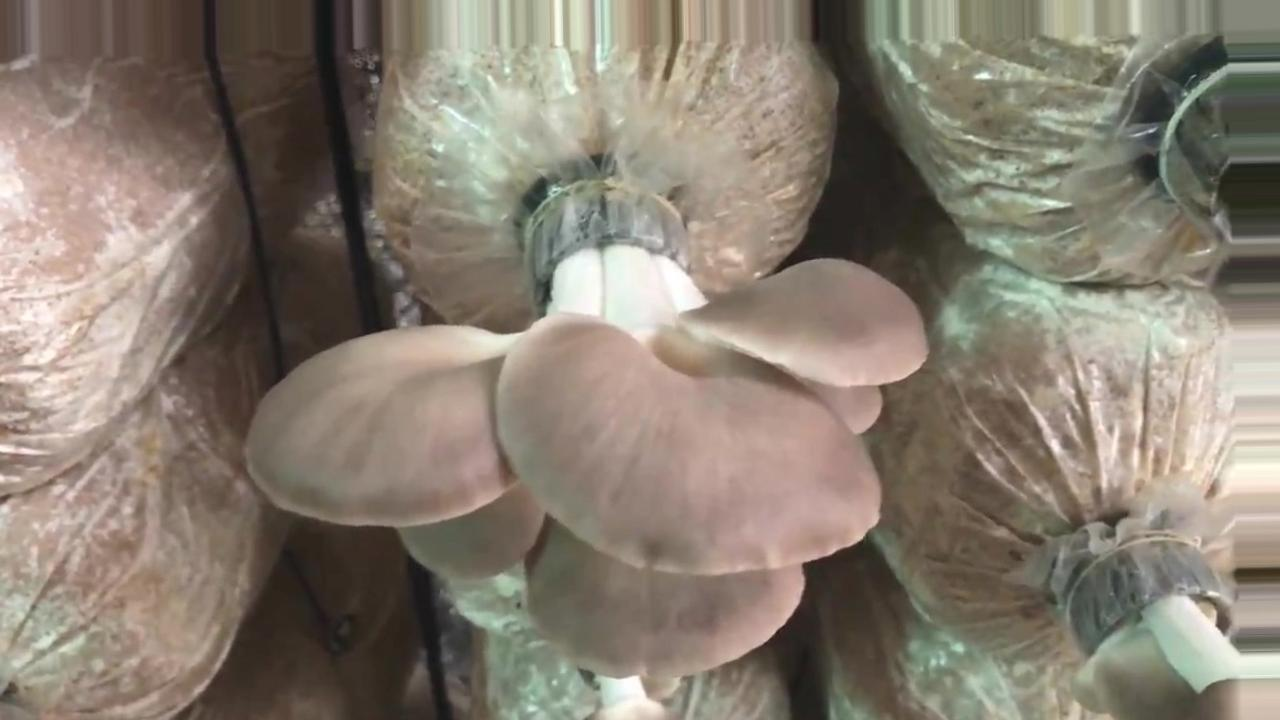nam: (246, 186, 923, 679), (1070, 536, 1280, 720)
